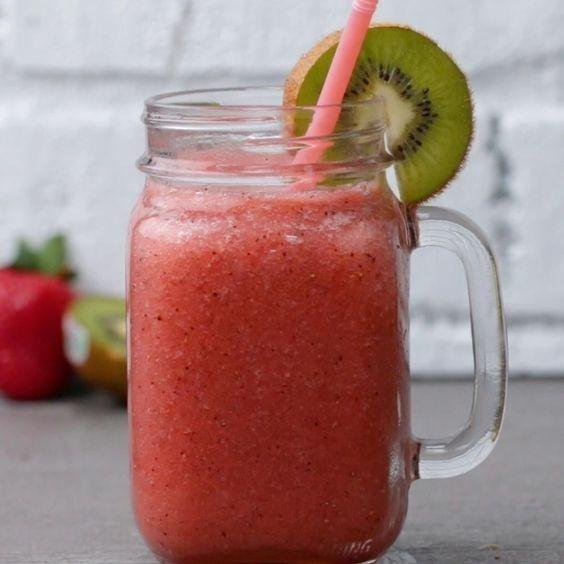glass-mug: (118, 75, 517, 564)
